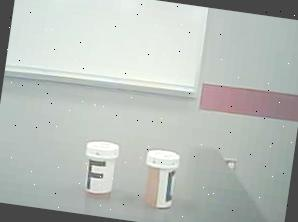Bottle D: (136, 140, 186, 216)
Bottle F: (75, 133, 128, 207)
